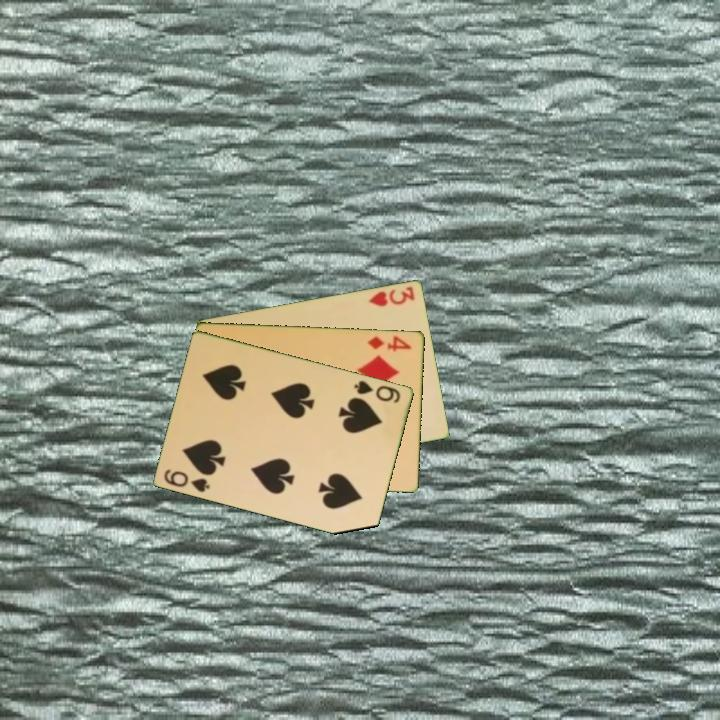3h: (365, 283, 418, 309)
4d: (364, 332, 414, 354)
6s: (161, 465, 213, 495), (351, 377, 404, 406)
